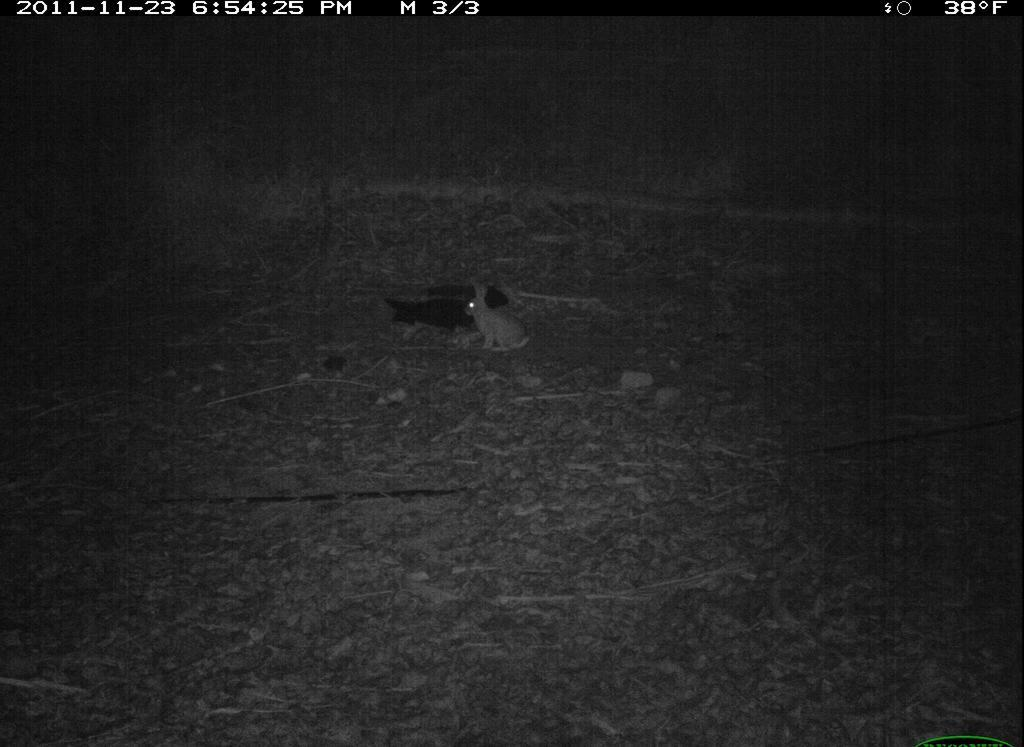rabbit: (461, 278, 543, 359)
